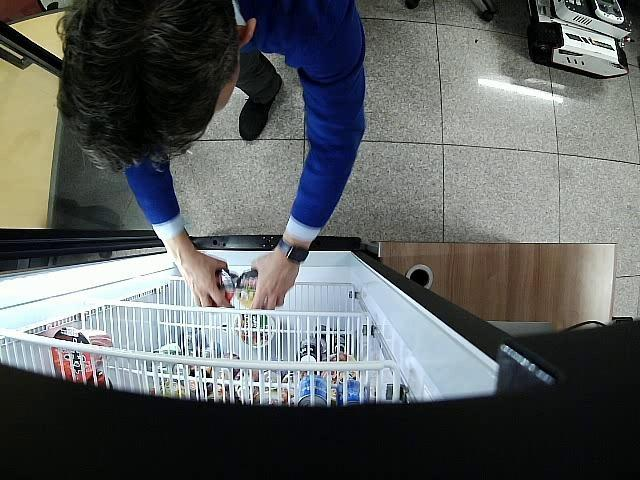08_buldak_S: (210, 267, 240, 307), (238, 269, 258, 308)
